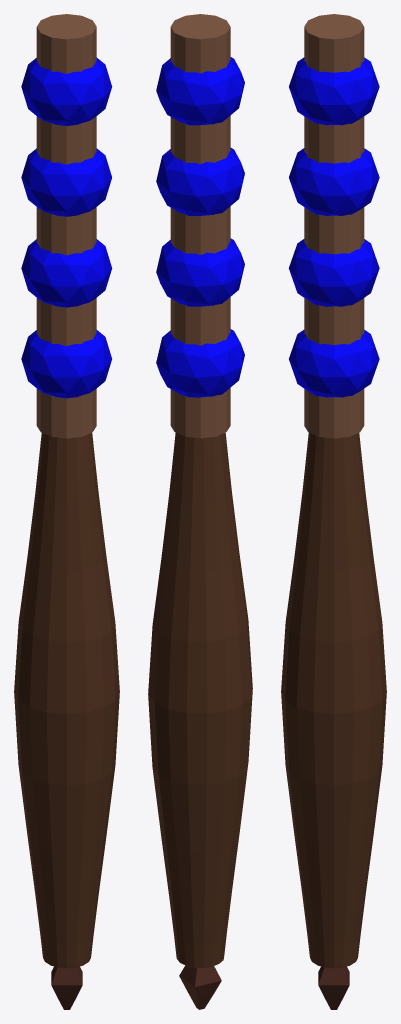
Rendered from Wand 135.glb.
3 views of the same model, side by side, from view 1: azimuth 90°, elevation 25°; view 2: azimuth 210°, elevation 25°; view 3: azimuth 270°, elevation 25° (orthographic).
Parts seen in each view (by area): view 1: GeneratedWand; view 2: GeneratedWand; view 3: GeneratedWand.
Part boxes in pixels (<box>): GeneratedWand: <box>14,14,119,1009</box>; GeneratedWand: <box>148,14,252,1009</box>; GeneratedWand: <box>281,14,386,1009</box>.
Size of the model in its own units: 0.0499 by 0.5105 by 0.0499.
